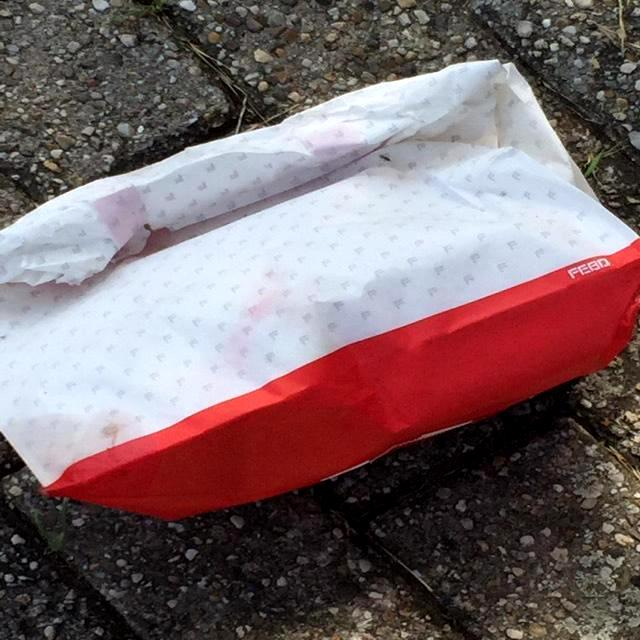Paper: (0, 56, 640, 524)
